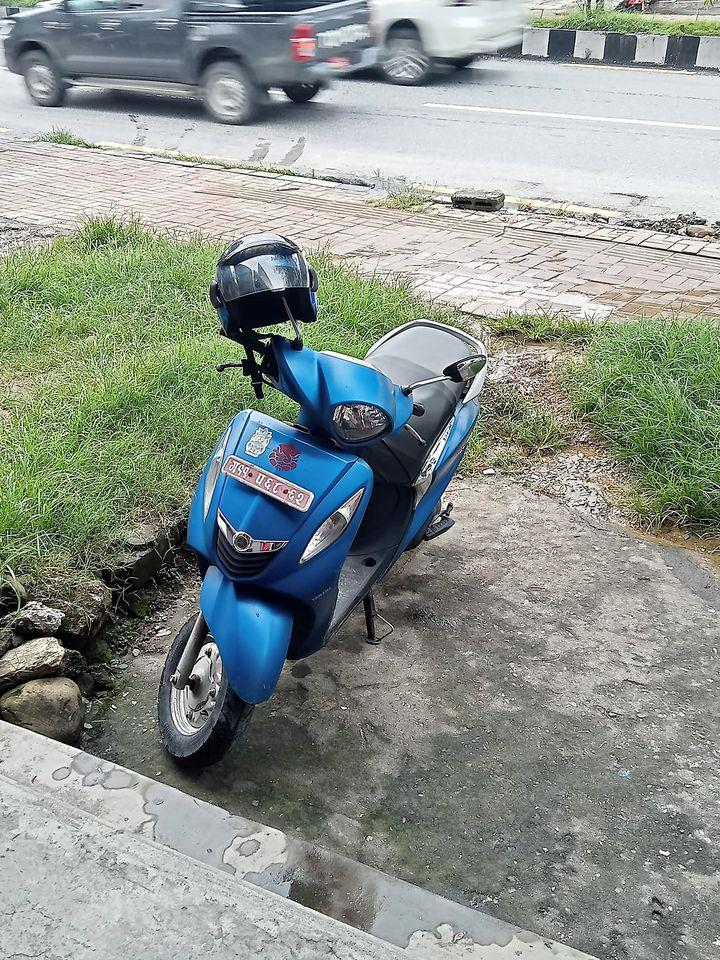scooter: (147, 281, 501, 784)
